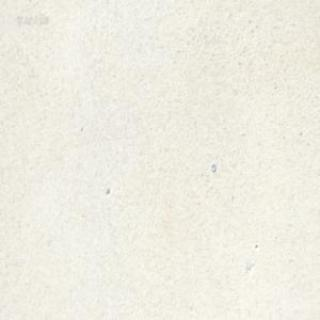Washertrack_idkeyframe: (210, 162, 215, 172)
